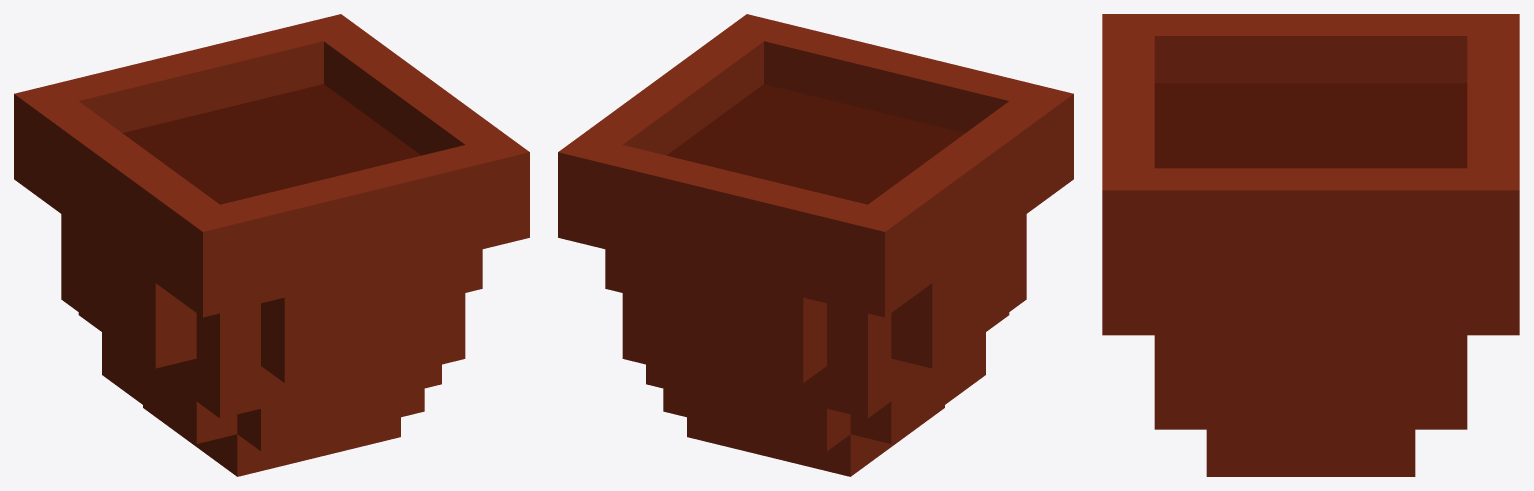
Rendered from flowerpot.dae.
The picture shows the model from 3 angles, left to right: view 1: azimuth 30°, elevation 25°; view 2: azimuth 150°, elevation 25°; view 3: azimuth 270°, elevation 25°; orthographic projection. The views are drawn at different scales.
Parts seen in each view (by area): view 1: PlaneCOL; view 2: PlaneCOL; view 3: PlaneCOL.
Boxes of the visible parts, x1,y1,x2,y2 form: PlaneCOL: [14, 14, 529, 476]; PlaneCOL: [558, 14, 1073, 476]; PlaneCOL: [1102, 14, 1519, 476].
Size of the model in its own units: 0.8 by 0.8 by 0.7.
